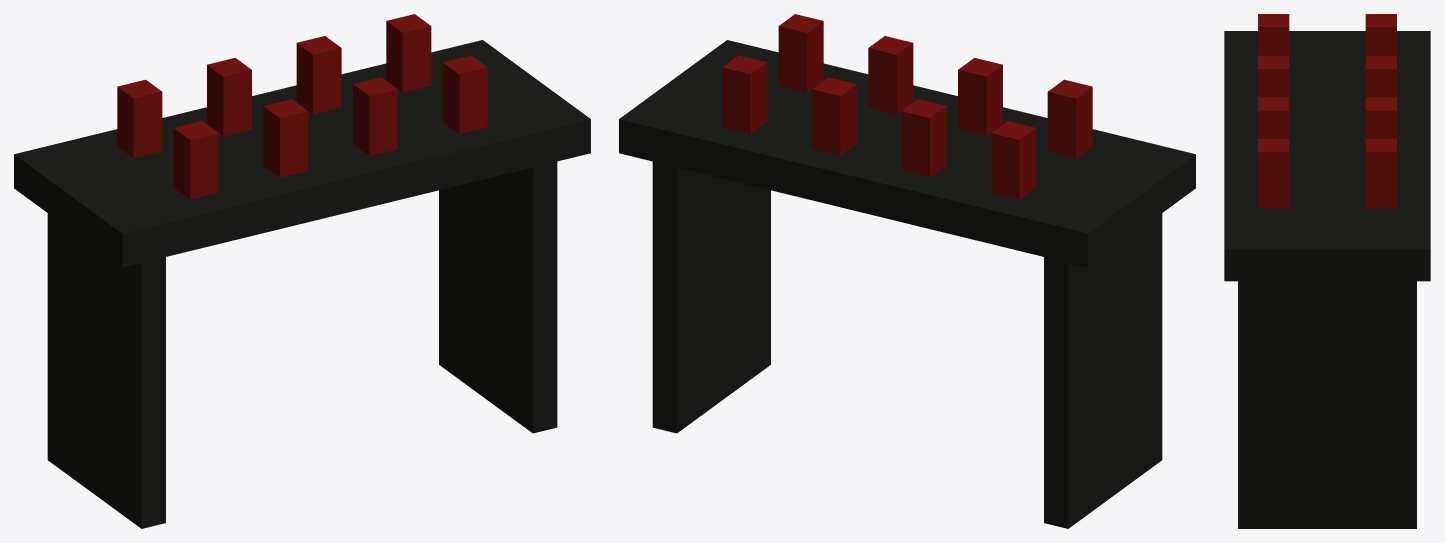
Rendered from velas_votivas.obj.
3 views of the same model, side by side, from view 1: azimuth 30°, elevation 25°; view 2: azimuth 150°, elevation 25°; view 3: azimuth 270°, elevation 25° (orthographic). The views are drawn at different scales.
Parts seen in each view (by area): view 1: mesa, pata_i, pata_d, vela_1_0, vela_0_0, vela_1_1, vela_0_3, vela_1_3, vela_0_2, vela_1_2, vela_0_1; view 2: mesa, pata_i, pata_d, vela_0_0, vela_0_1, vela_1_0, vela_0_3, vela_1_3, vela_1_2, vela_0_2, vela_1_1; view 3: pata_d, mesa, vela_0_3, vela_1_3, vela_0_1, vela_1_1, vela_0_0, vela_0_2, vela_1_0, vela_1_2.
Boxes of the visible parts, <box> form: mesa: <box>14,40,590,267</box>; pata_i: <box>47,213,165,528</box>; pata_d: <box>439,161,557,433</box>; vela_1_0: <box>173,121,218,199</box>; vela_0_0: <box>117,79,162,158</box>; vela_1_1: <box>263,99,308,177</box>; vela_0_3: <box>386,14,431,92</box>; vela_1_3: <box>442,55,487,133</box>; vela_0_2: <box>296,36,341,114</box>; vela_1_2: <box>353,77,397,155</box>; vela_0_1: <box>207,57,251,136</box>; mesa: <box>619,40,1195,267</box>; pata_i: <box>1044,213,1162,528</box>; pata_d: <box>652,161,770,433</box>; vela_0_0: <box>991,121,1036,199</box>; vela_0_1: <box>901,99,946,177</box>; vela_1_0: <box>1047,79,1092,158</box>; vela_0_3: <box>722,55,767,133</box>; vela_1_3: <box>778,14,823,92</box>; vela_1_2: <box>868,36,913,114</box>; vela_0_2: <box>812,77,856,155</box>; vela_1_1: <box>958,57,1002,136</box>; pata_d: <box>1238,281,1416,528</box>; mesa: <box>1224,31,1430,281</box>; vela_0_3: <box>1365,139,1396,208</box>; vela_1_3: <box>1258,139,1289,208</box>; vela_0_1: <box>1365,55,1396,97</box>; vela_1_1: <box>1258,55,1289,97</box>; vela_0_0: <box>1365,14,1396,55</box>; vela_0_2: <box>1365,97,1396,138</box>; vela_1_0: <box>1258,14,1289,55</box>; vela_1_2: <box>1258,97,1289,138</box>.
Bounding box in the file's own units: 1.15 × 0.86 × 0.46.
